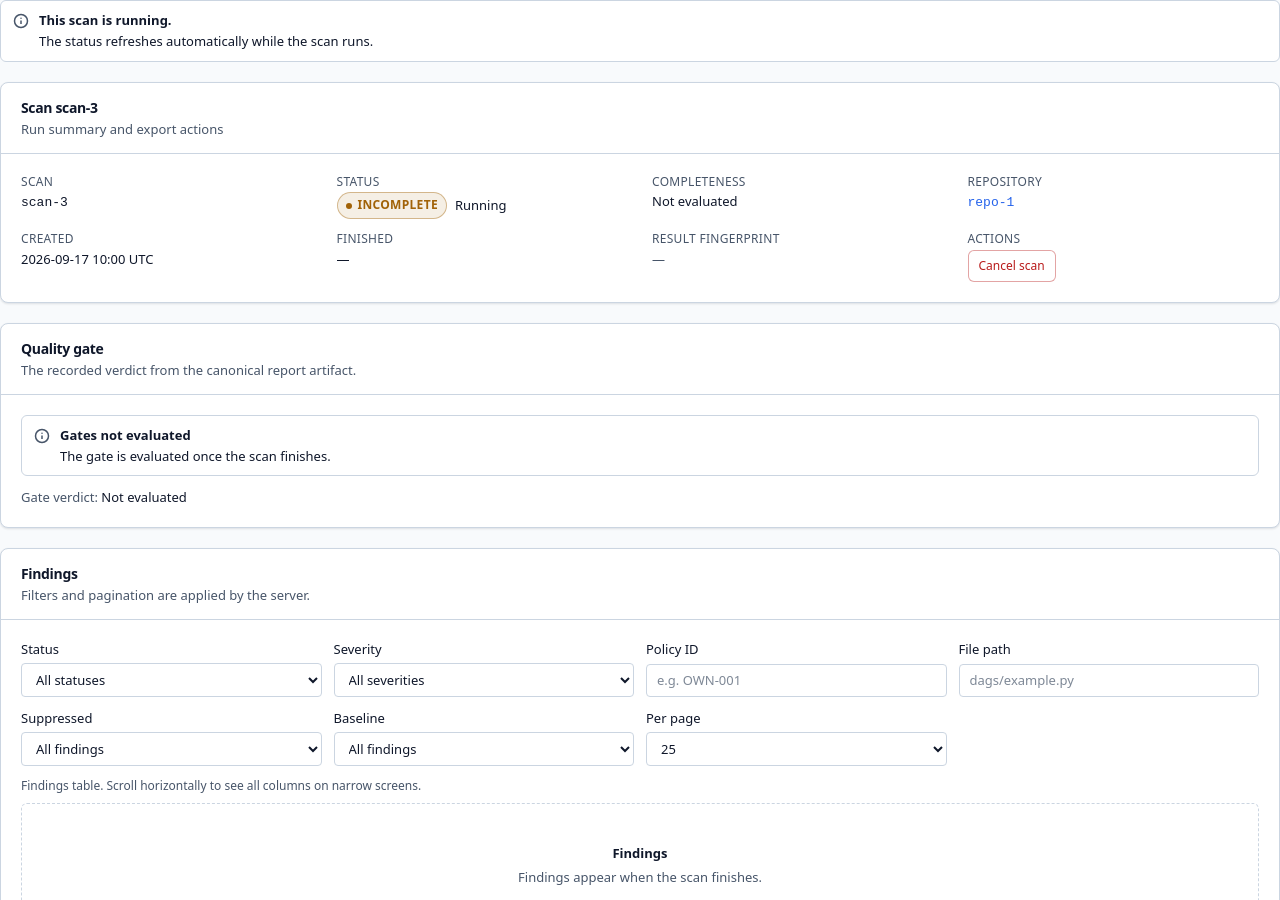
it: ScanPage › does not fetch the report for an active scan, offers cancellation, and refreshes after it
The width and height of the screenshot is (1280, 900).
Expected: the text "Running" is shown, [455,196,506,214]
Expected: the text "Findings appear when the scan finishes." is shown, [518,868,762,887]
Click the button "Cancel scan" at (1012, 266), box [968,250,1056,282]
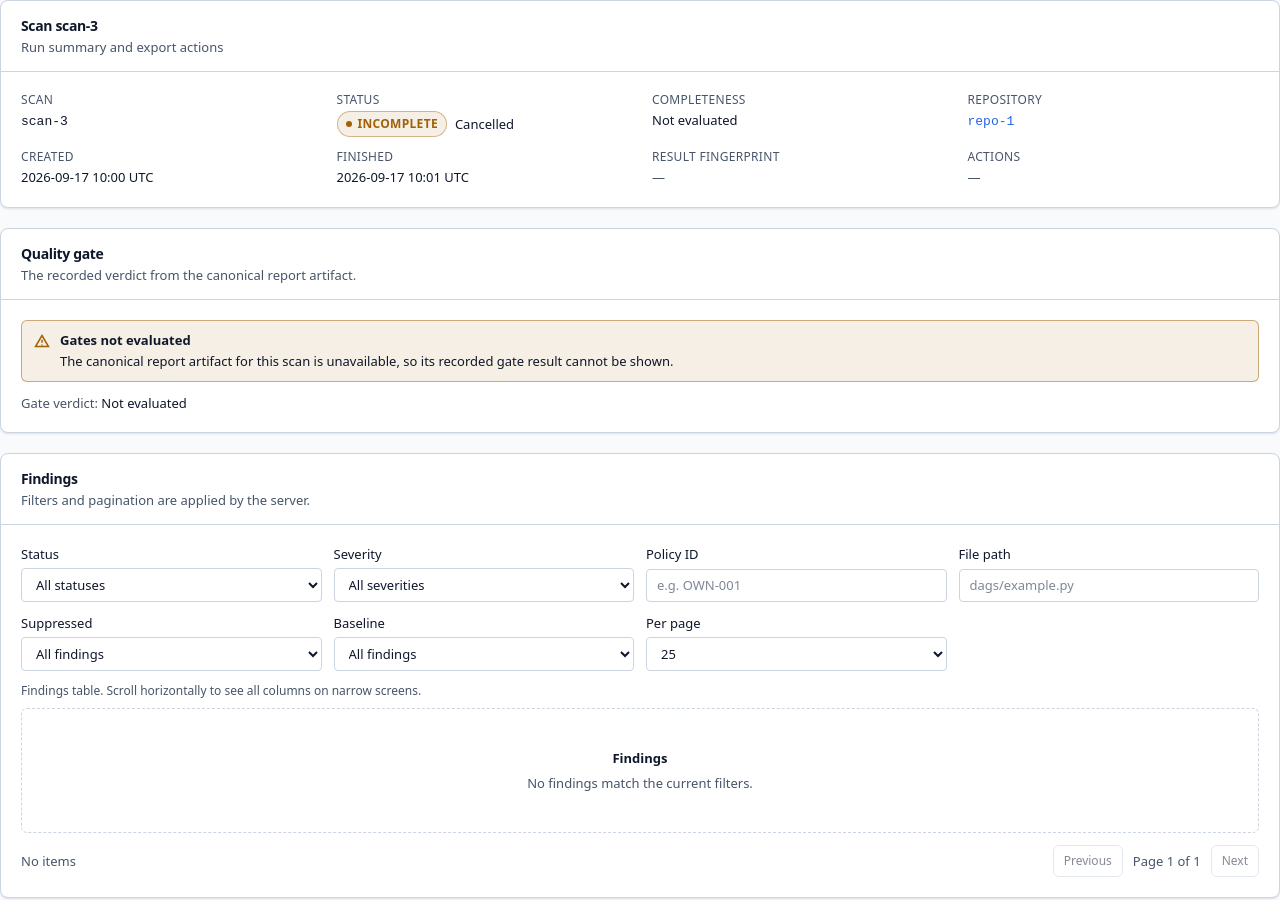
Expected: the text "Not evaluated" next to "Gate verdict:" is shown, [101,394,187,412]
Expected: the text "Cancelled" is shown, [455,115,514,133]
Expected: the button "Cancel scan" is gone
